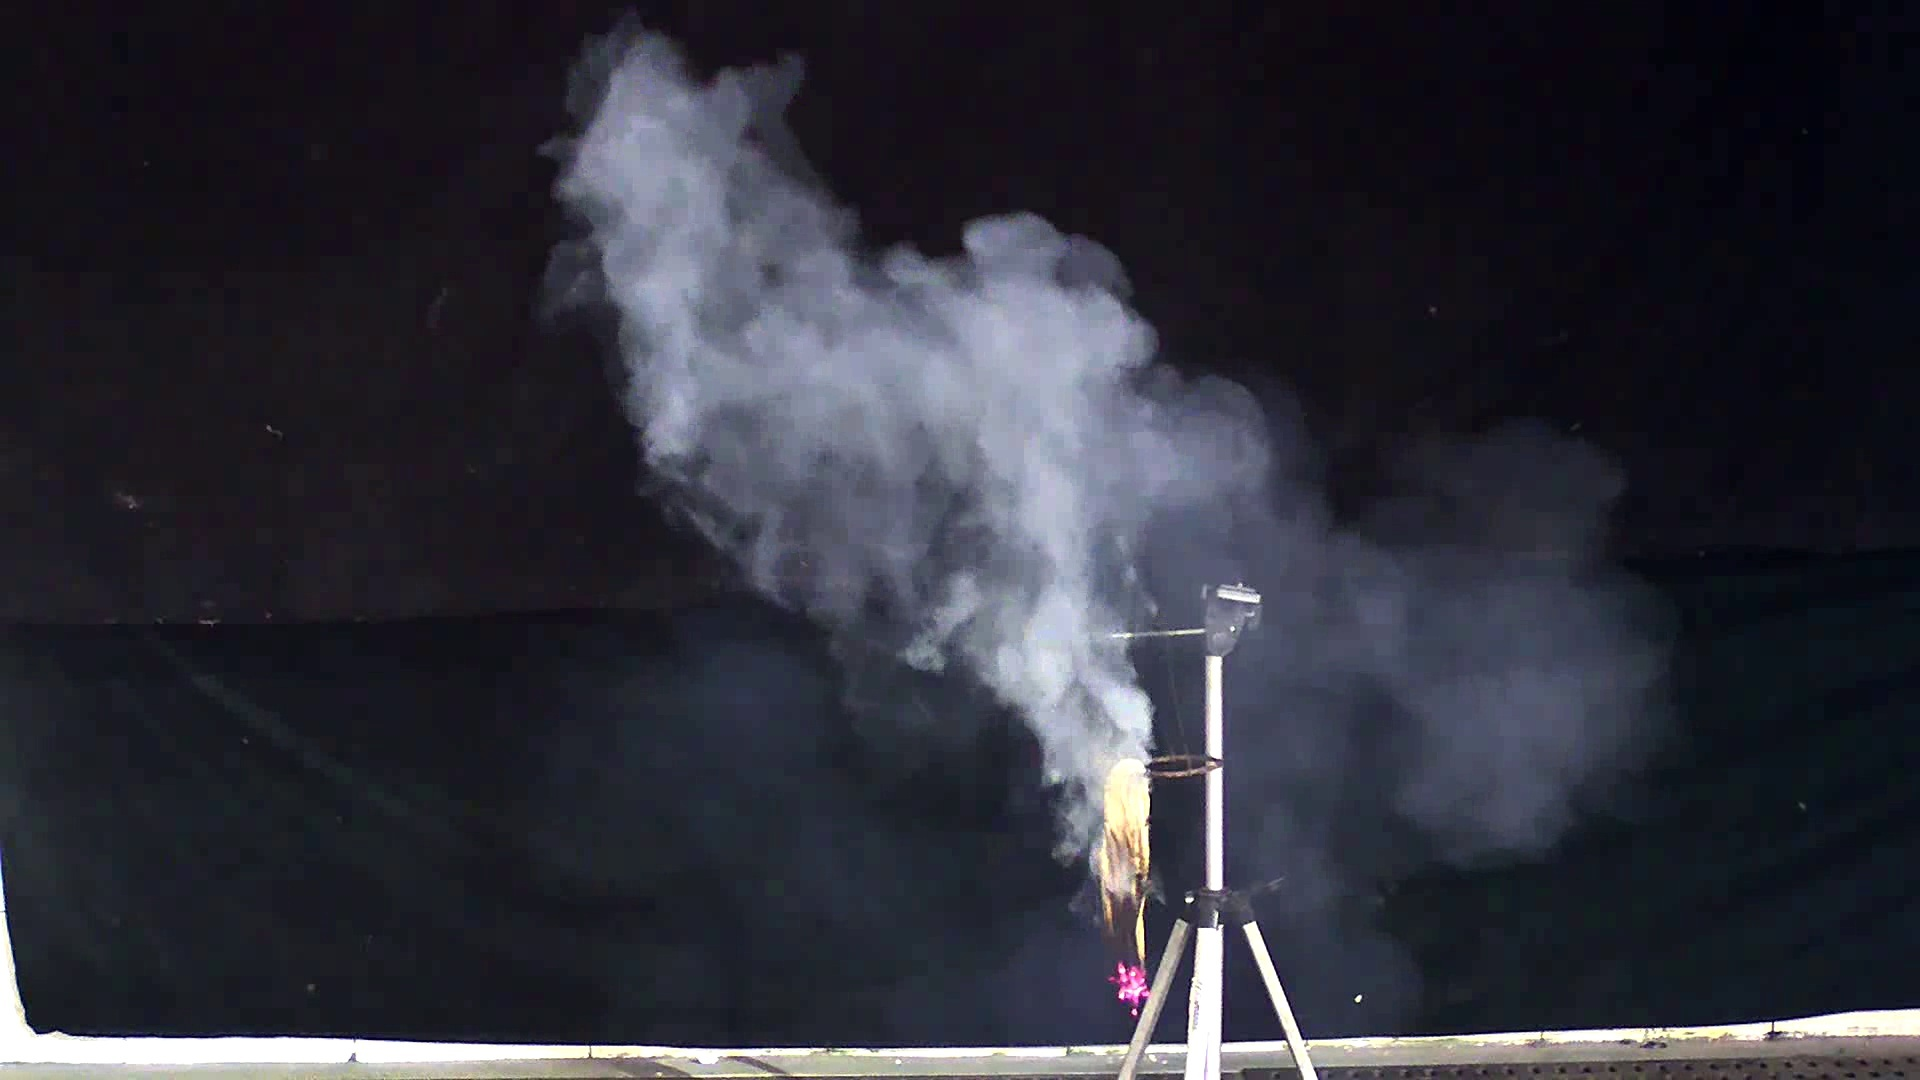smoke: (556, 30, 1696, 916)
